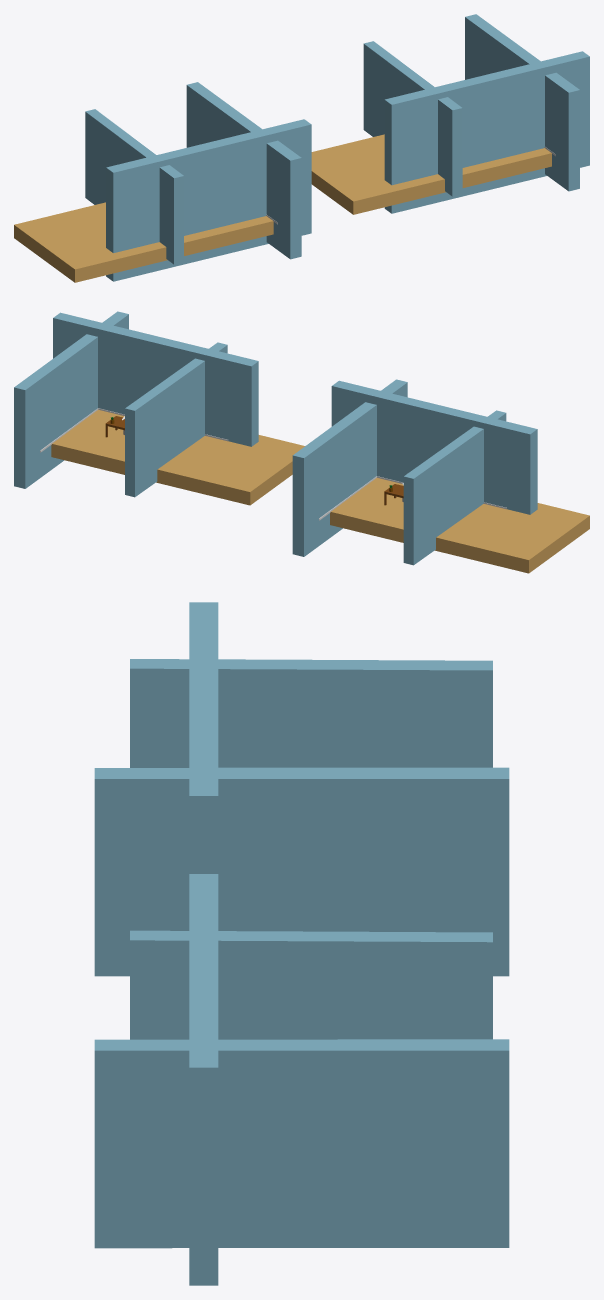
Rendered from room.glb.
The picture shows the model from 3 angles, top to bottom: view 1: azimuth 30°, elevation 25°; view 2: azimuth 150°, elevation 25°; view 3: azimuth 270°, elevation 25°; orthographic projection. The views are drawn at different scales.
Visible parts, largest first — view 1: Cube.015, Cube.008, Cube.014, Cube.009, Cube.013, Cube.017, Cube.018, Cube.012; view 2: Cube.015, Cube.008, Cube.014, Cube.009, Cube.013, Cube.017, Cube.012, Cube.018; view 3: Cube.017, Cube.013, Cube.018, Cube.012, Cube.008, Cube.015.
Part boxes in pixels (left/top/right/bottom): Cube.015: left=106, top=119, right=311, bottom=281; Cube.008: left=384, top=51, right=589, bottom=213; Cube.014: left=14, top=202, right=273, bottom=282; Cube.009: left=311, top=134, right=551, bottom=214; Cube.013: left=186, top=82, right=301, bottom=259; Cube.017: left=465, top=14, right=579, bottom=191; Cube.018: left=363, top=41, right=462, bottom=196; Cube.012: left=85, top=109, right=183, bottom=264; Cube.015: left=331, top=380, right=537, bottom=514; Cube.008: left=53, top=312, right=258, bottom=446; Cube.014: left=330, top=478, right=589, bottom=573; Cube.009: left=51, top=409, right=304, bottom=505; Cube.013: left=292, top=379, right=407, bottom=556; Cube.017: left=14, top=311, right=128, bottom=488; Cube.012: left=403, top=410, right=506, bottom=565; Cube.018: left=125, top=342, right=227, bottom=497; Cube.017: left=94, top=1039, right=509, bottom=1248; Cube.013: left=94, top=767, right=509, bottom=976; Cube.018: left=130, top=930, right=492, bottom=1039; Cube.012: left=130, top=659, right=492, bottom=767; Cube.008: left=189, top=874, right=218, bottom=1285; Cube.015: left=189, top=602, right=218, bottom=873.
Bounding box in the file's own units: 207 × 41.31 × 71.29.
